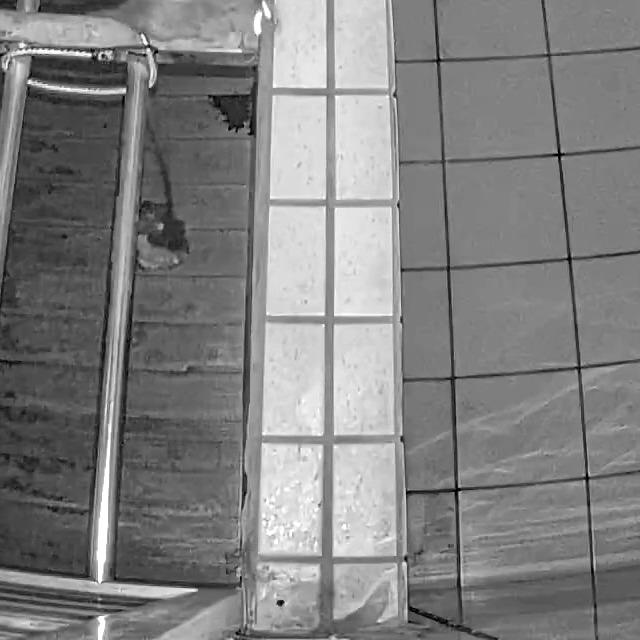rat: (84, 0, 280, 51)
